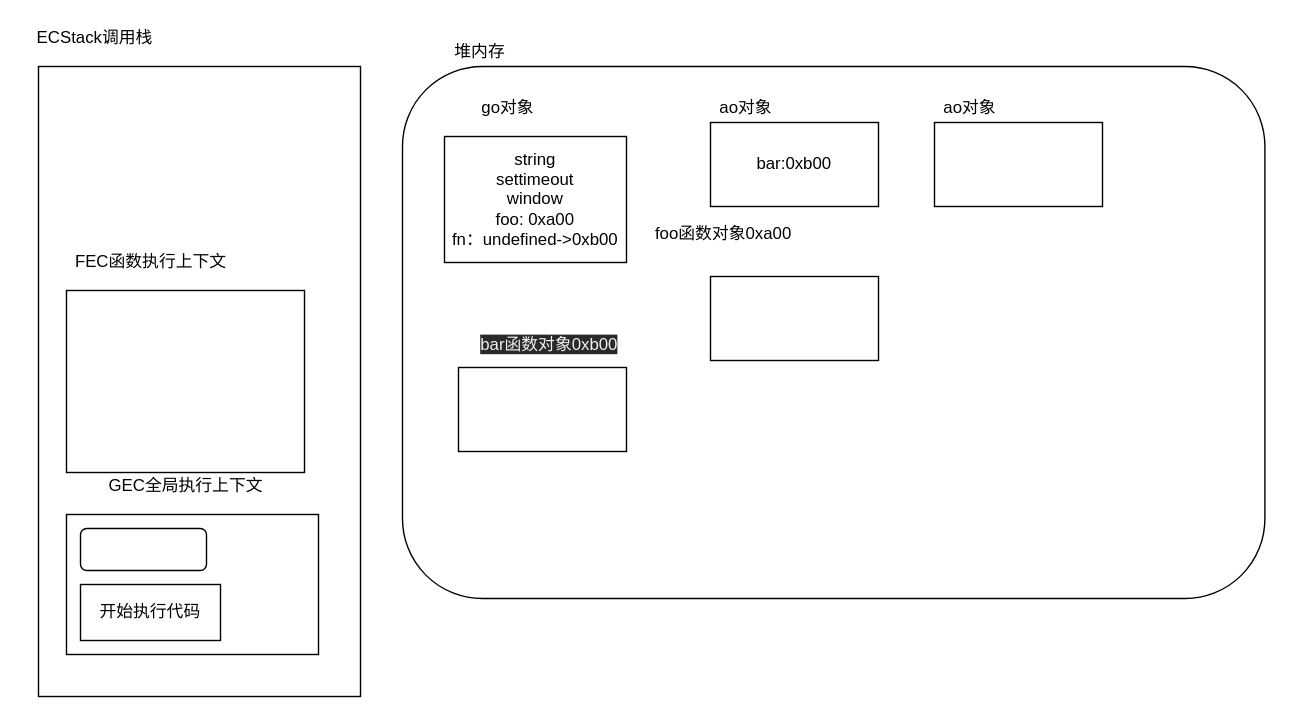
Image size: 1289x721. Some labels were removed from this diagram. Each missing label, with the centre of its shape:
vo:go: point (142, 548)
执行完后这个就被删除了: point (184, 380)
